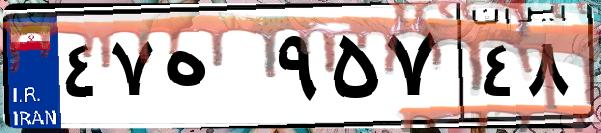4: (57, 26, 110, 100), (475, 38, 525, 113)
5: (330, 28, 385, 110)
7: (385, 28, 445, 110), (110, 28, 158, 98)
8: (525, 38, 570, 115)
9: (270, 28, 330, 110)
ه: (158, 20, 270, 120)
